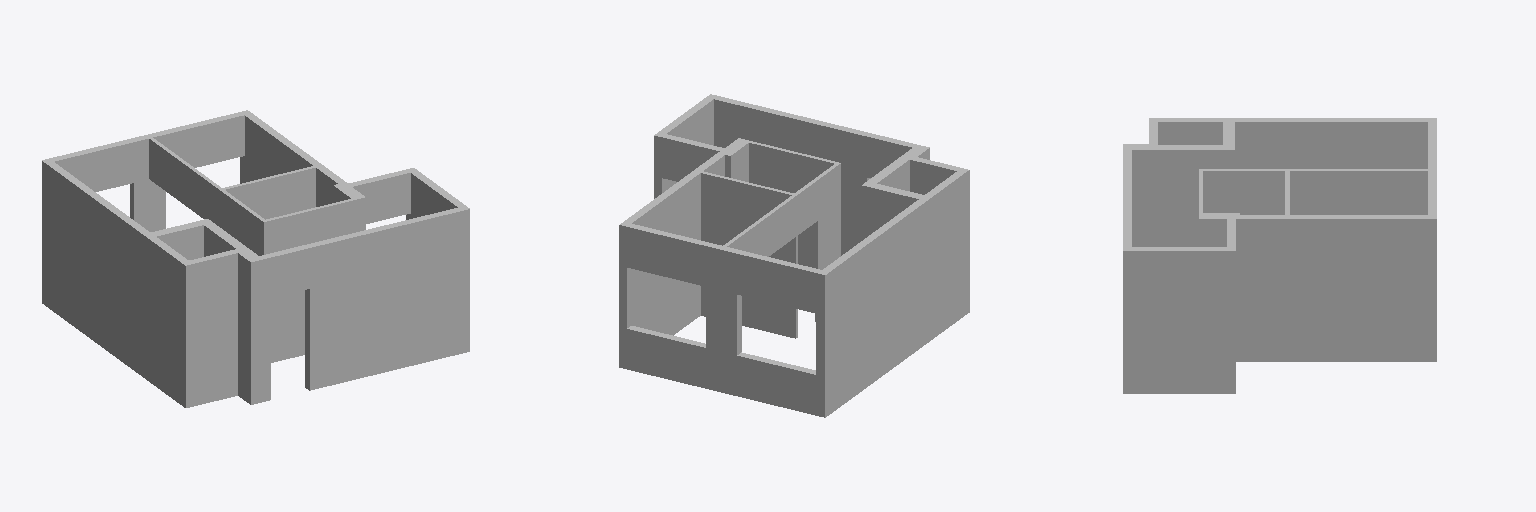
File: Studio.obj
3 views of the same model, side by side, from view 1: azimuth 30°, elevation 25°; view 2: azimuth 150°, elevation 25°; view 3: azimuth 270°, elevation 25° (orthographic).
Parts seen in each view (by area): view 1: object_1; view 2: object_1; view 3: object_1.
Part boxes in pixels (bbox=[...]): object_1: bbox=[42, 110, 469, 407]; object_1: bbox=[619, 94, 969, 417]; object_1: bbox=[1123, 118, 1436, 393].
Size of the model in its own units: 6.98 by 3.5 by 6.98.